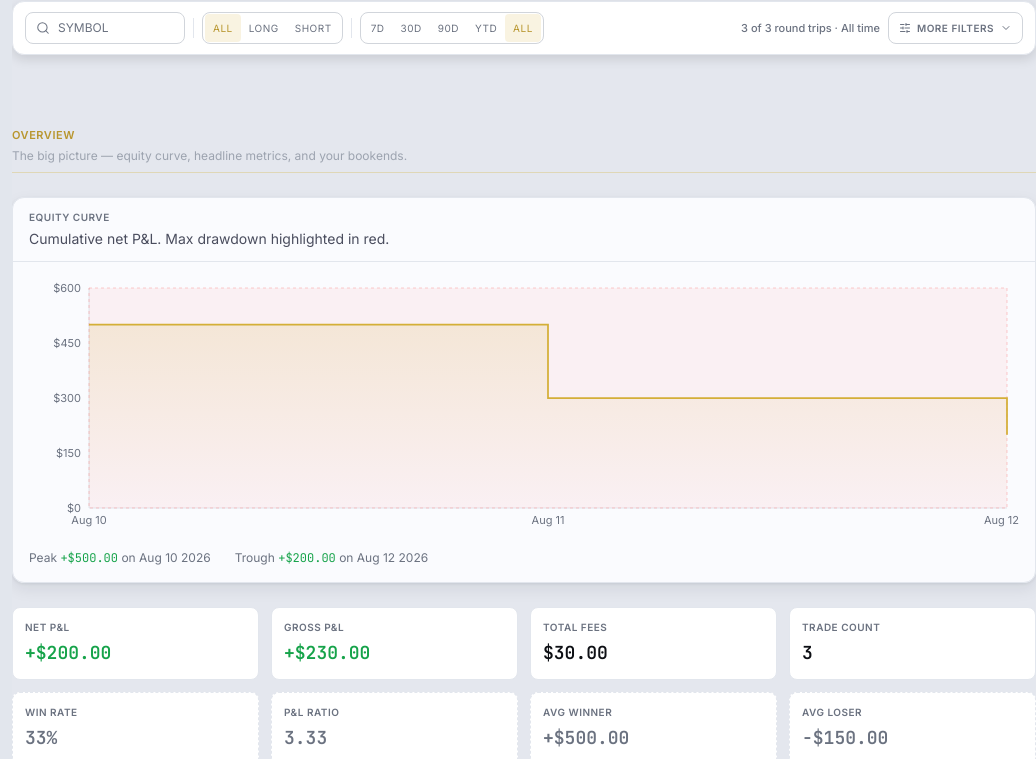
Scenario: T7 chart titles reflect the active range › YTD retitles every chart
This screenshot has width=1036, height=759.
Click the button "YTD". click: click(486, 28)
box: left=467, top=14, right=505, bottom=42
(page scrolled)
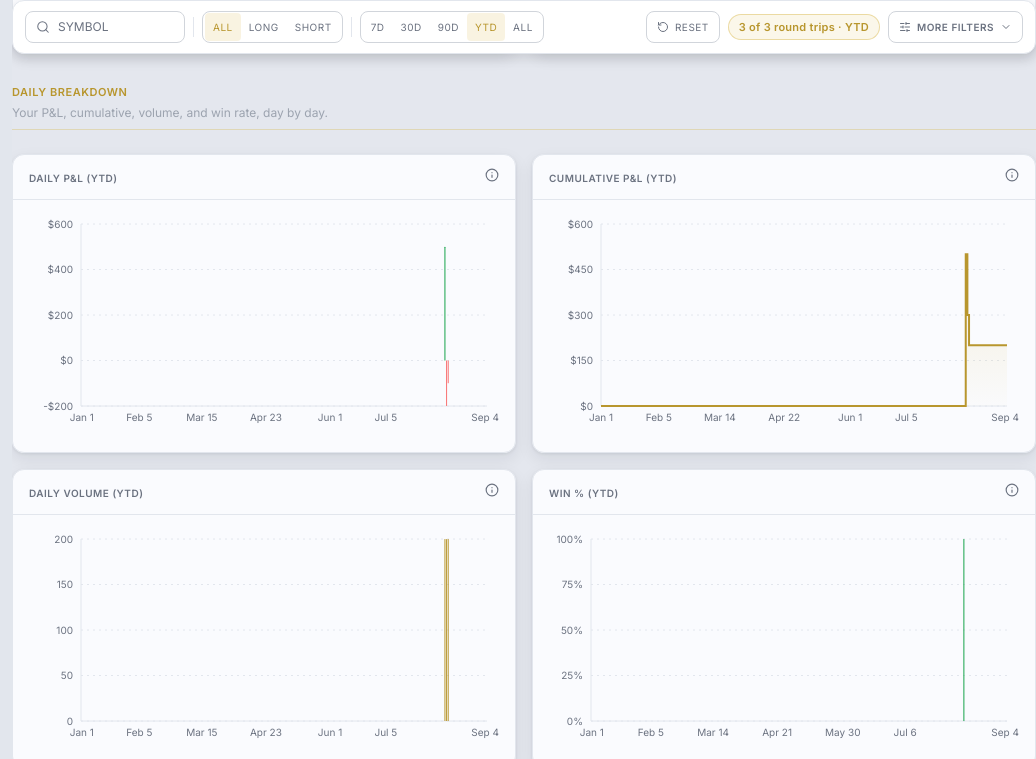
Now the text "Daily P&L (YTD)" is shown, box left=29, top=170, right=118, bottom=186
Now the text "Cumulative P&L (YTD)" is shown, box left=549, top=170, right=677, bottom=186
Now the text "Daily Volume (YTD)" is shown, box left=29, top=486, right=143, bottom=500
